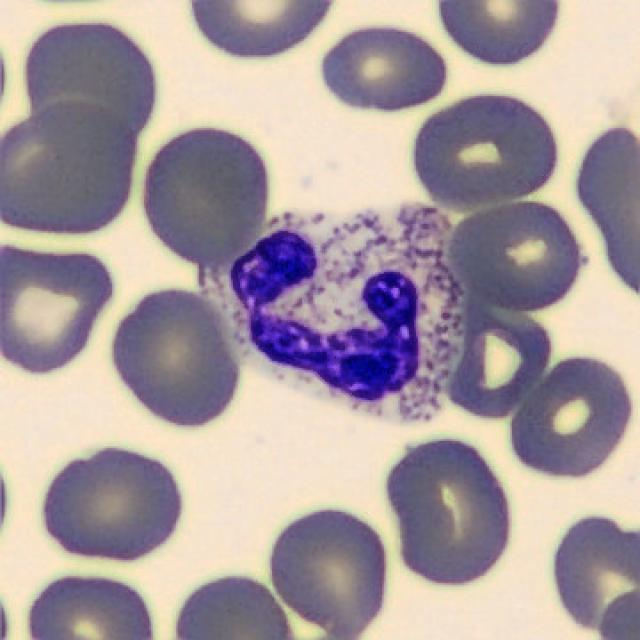Neutrofilo segmentado: (229, 203, 466, 423)
